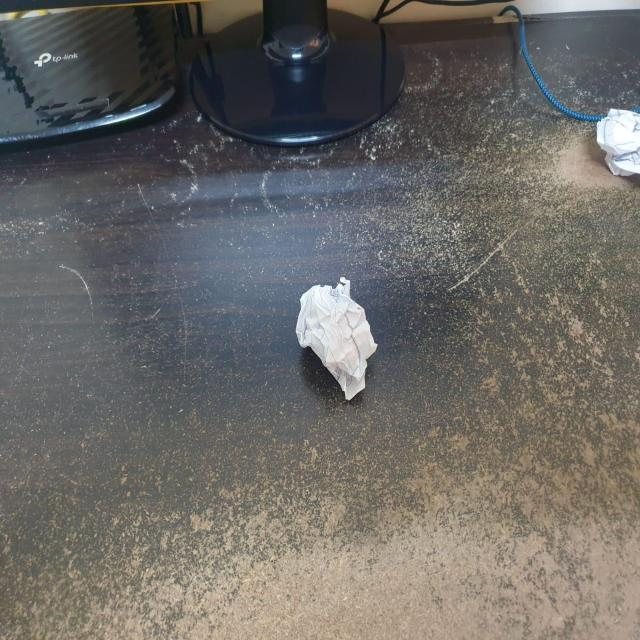cardboard paper: (295, 276, 375, 398), (596, 108, 638, 174)
